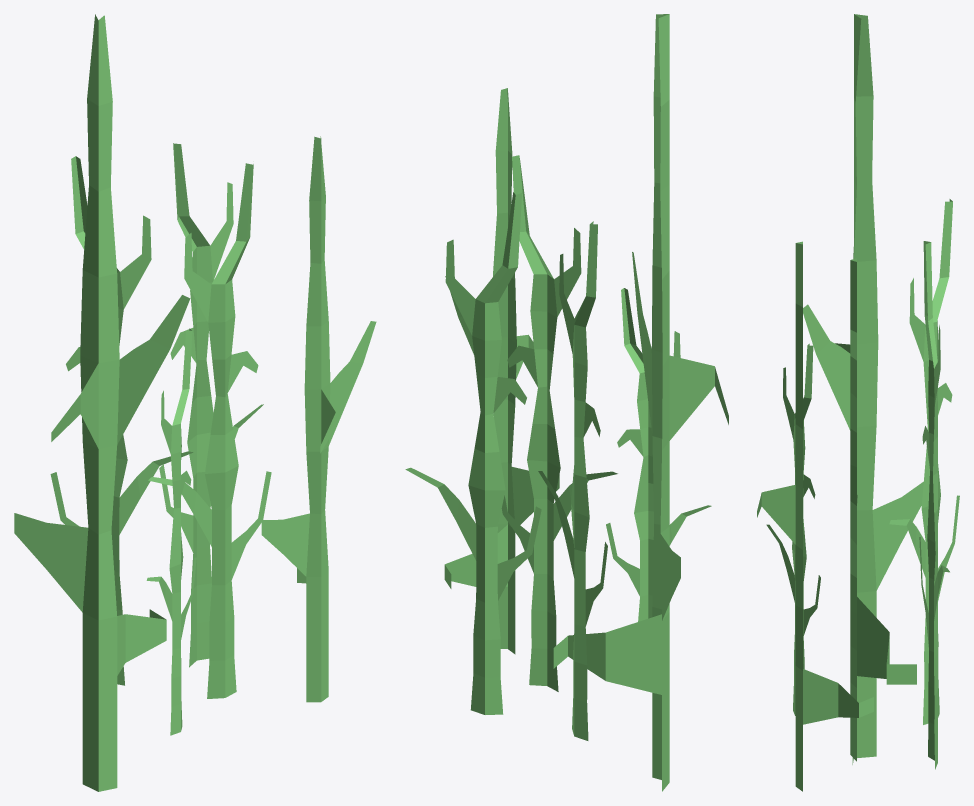
The model's file is Algen.gltf.
The picture shows the model from 3 angles, left to right: view 1: azimuth 30°, elevation 25°; view 2: azimuth 150°, elevation 25°; view 3: azimuth 270°, elevation 25°; orthographic projection. The views are drawn at different scales.
Parts seen in each view (by area): view 1: Algen; view 2: Algen; view 3: Algen.
Boxes of the visible parts, <box> form: Algen: <box>14,14,376,791</box>; Algen: <box>405,14,728,791</box>; Algen: <box>757,14,959,791</box>.
Bounding box in the file's own units: 3.48 × 8.41 × 2.08.
